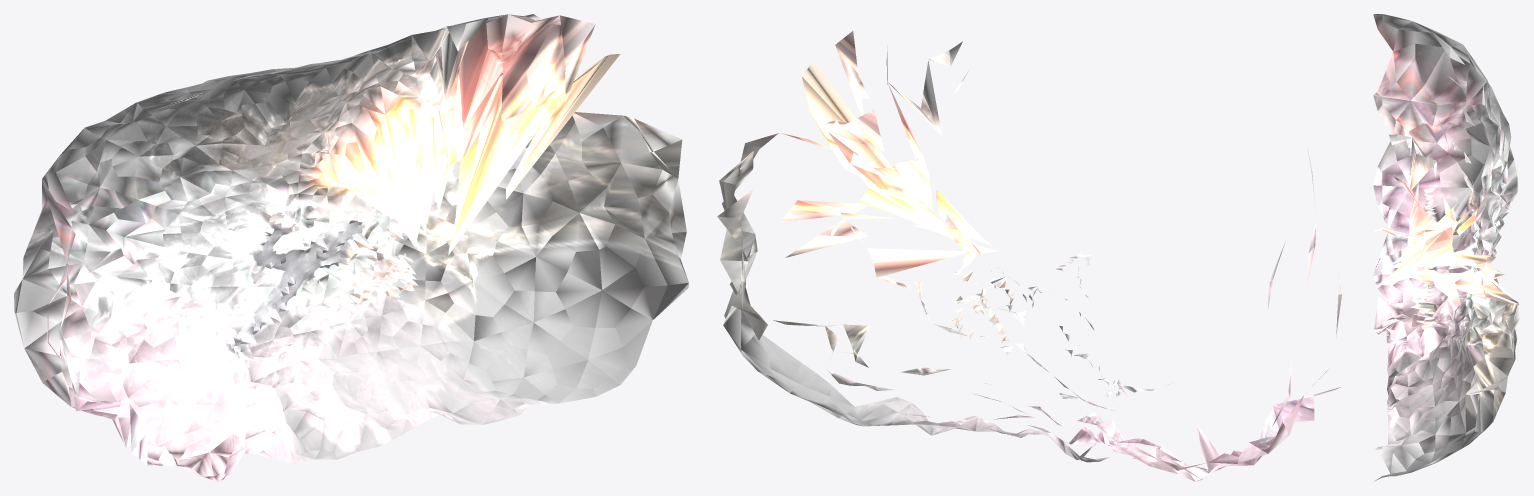
The picture shows the model from 3 angles, left to right: view 1: azimuth 30°, elevation 25°; view 2: azimuth 150°, elevation 25°; view 3: azimuth 270°, elevation 25°; orthographic projection. The views are drawn at different scales.
Parts seen in each view (by area): view 1: Sphere, Plane; view 2: Sphere, Plane; view 3: Sphere, Plane.
Part boxes in pixels (x1,y1,x2,y2): Sphere: (14, 14, 688, 481); Plane: (225, 205, 417, 361); Sphere: (717, 31, 1341, 481); Plane: (947, 252, 1122, 400); Sphere: (1373, 14, 1519, 481); Plane: (1410, 188, 1437, 327).
Size of the model in its own units: 661 by 417 by 174.
Materials: 2 (1 with a texture image).
